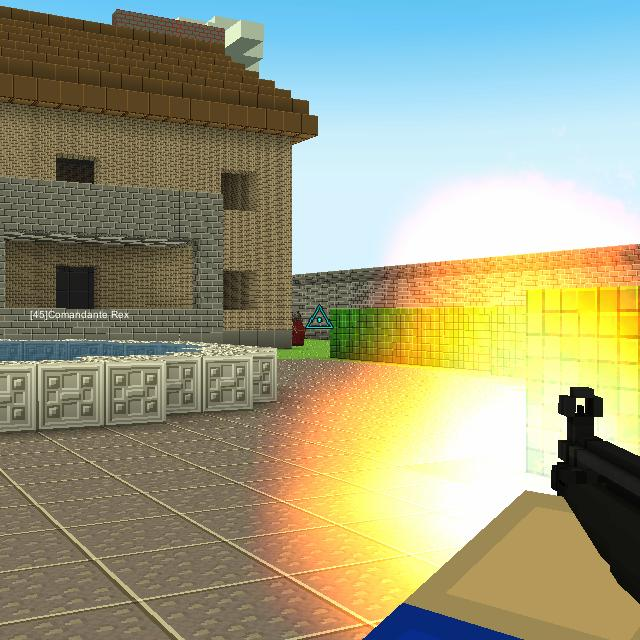enemy: (292, 310, 305, 345)
